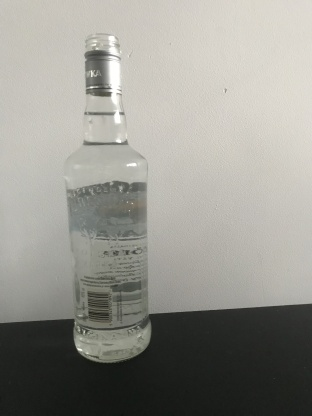nakretka: (83, 34, 123, 97)
